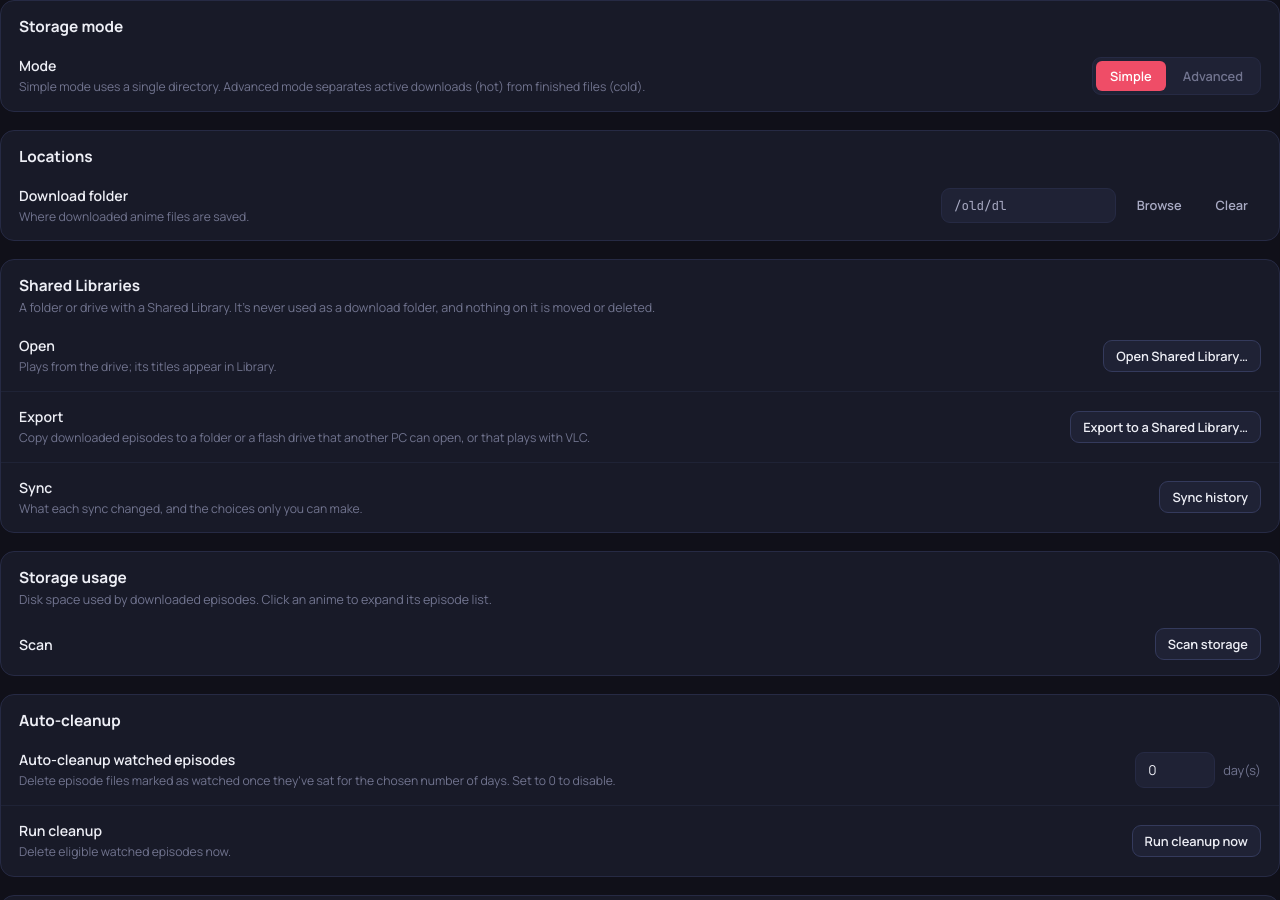
Test: StorageTab — clearing a stale storage root (#440) › warns that the files stay put AND that the downloads vanish from the app
Click the button "Clear".
click(1232, 205)  # box [1202,189,1261,221]
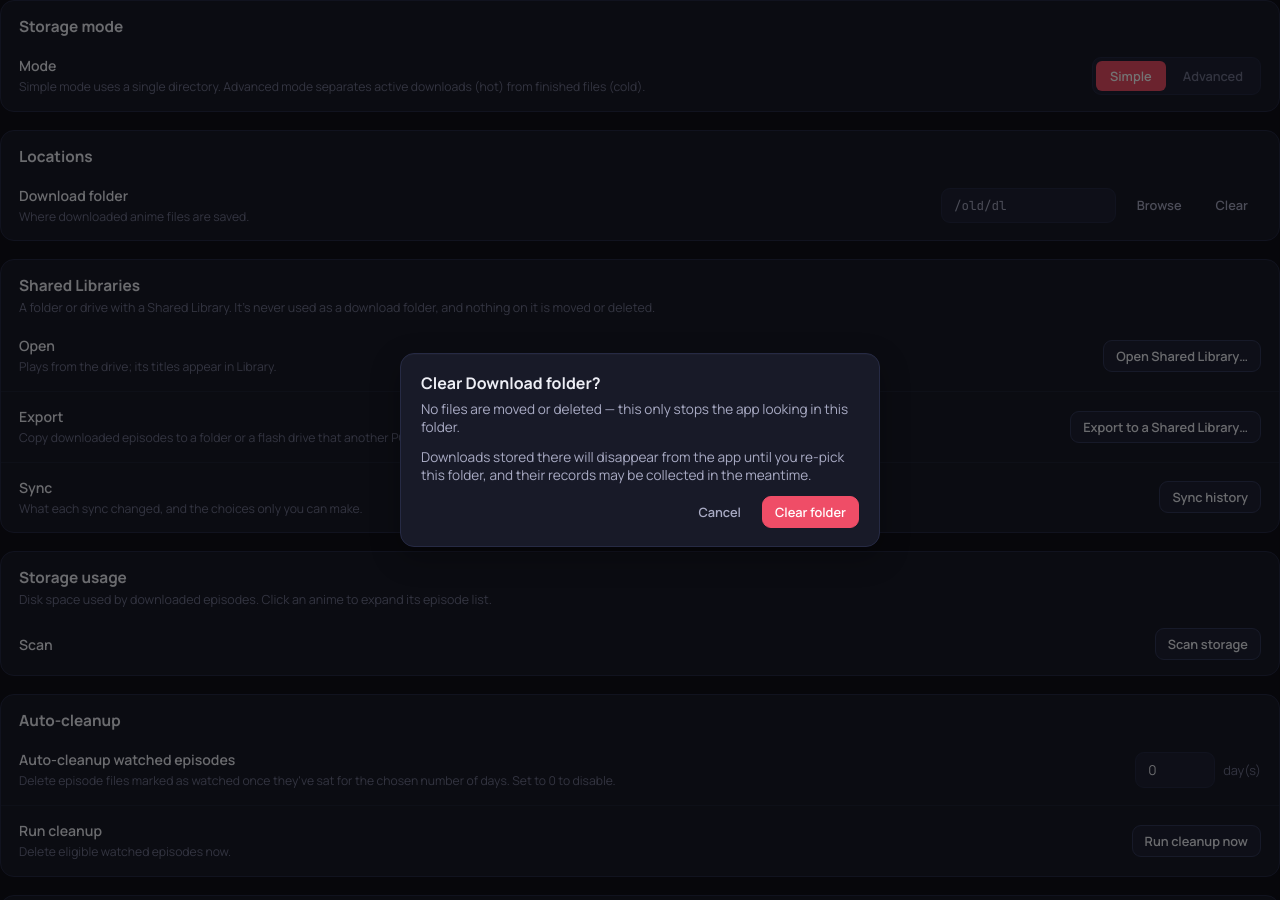
Check: the element with class "cleanup-modal" shows "No files are moved or deleted", box [421,400,848,436]
Check: the element with class "cleanup-modal" shows "disappear from the app until you re-pick this folder", box [421,448,844,484]
